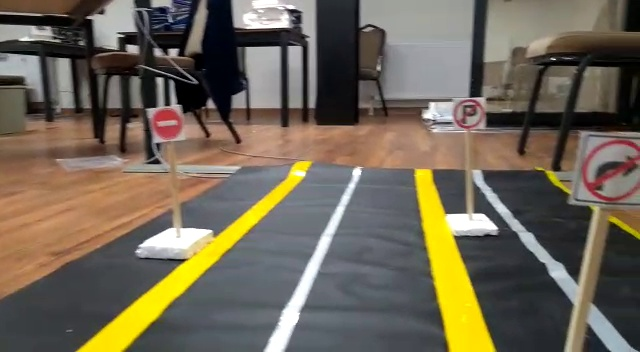girisi_olmayan_yol: (151, 106, 185, 142)
park_yapilmaz: (450, 96, 486, 129)
saga_donulmez: (579, 131, 640, 205)
